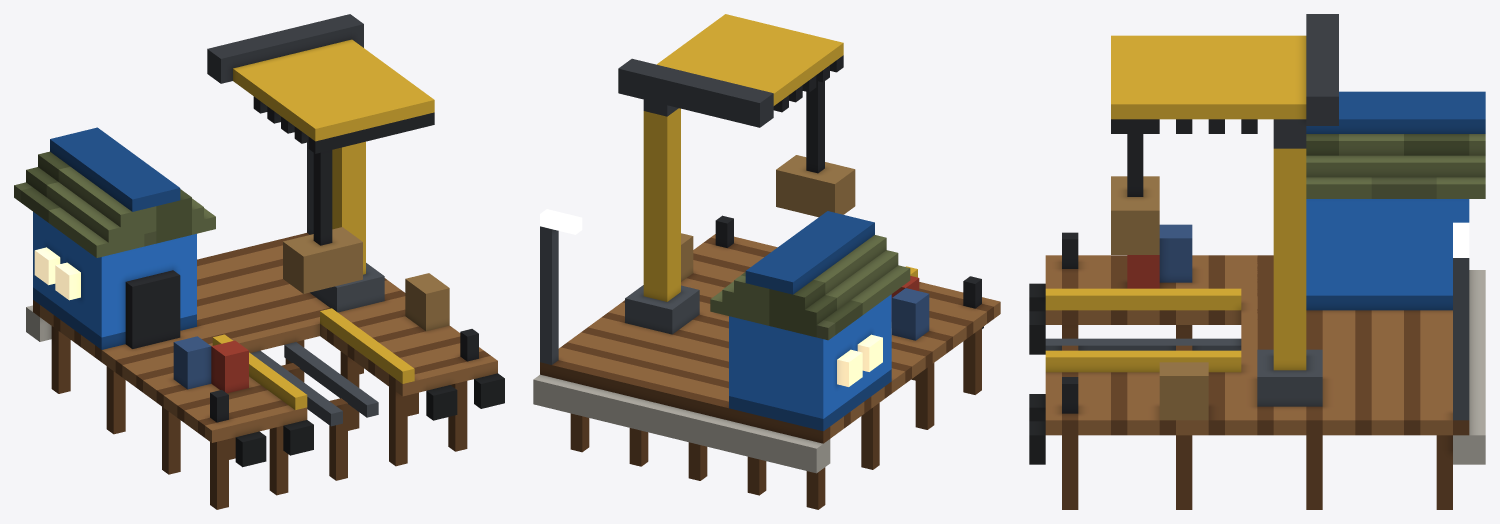
Rendered from cm_dock_1.glb.
The picture shows the model from 3 angles, left to right: view 1: azimuth 30°, elevation 25°; view 2: azimuth 150°, elevation 25°; view 3: azimuth 270°, elevation 25°; orthographic projection. The views are drawn at different scales.
Visible parts, largest first — view 1: cm_dock_1_body; view 2: cm_dock_1_body; view 3: cm_dock_1_body.
Boxes of the visible parts, x1,y1,x2,y2 form: cm_dock_1_body: [14, 14, 504, 509]; cm_dock_1_body: [533, 14, 1000, 509]; cm_dock_1_body: [1029, 14, 1485, 509].
Size of the model in its own units: 1.56 by 1.75 by 1.75.
Materials: 1 (1 with a texture image).
